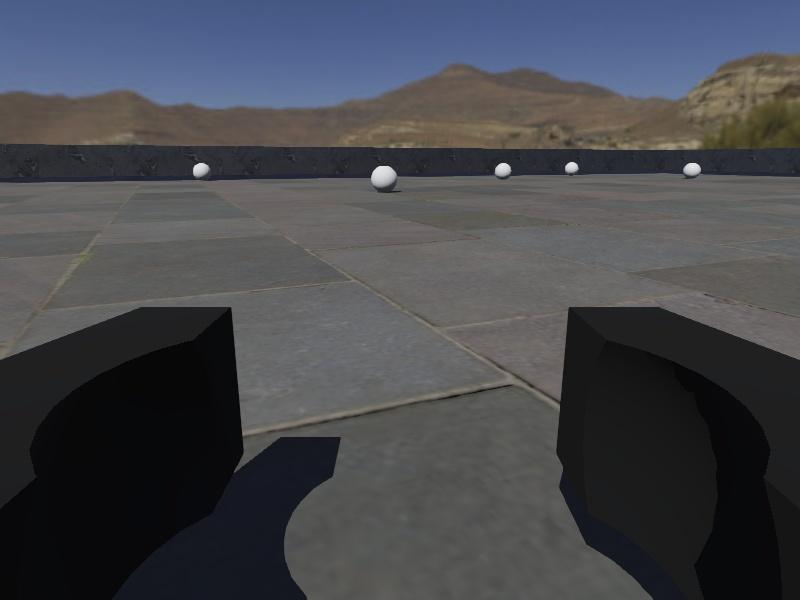white ball: (370, 164, 398, 194), (192, 162, 212, 182), (682, 160, 701, 179), (494, 160, 512, 180), (563, 159, 580, 176)
